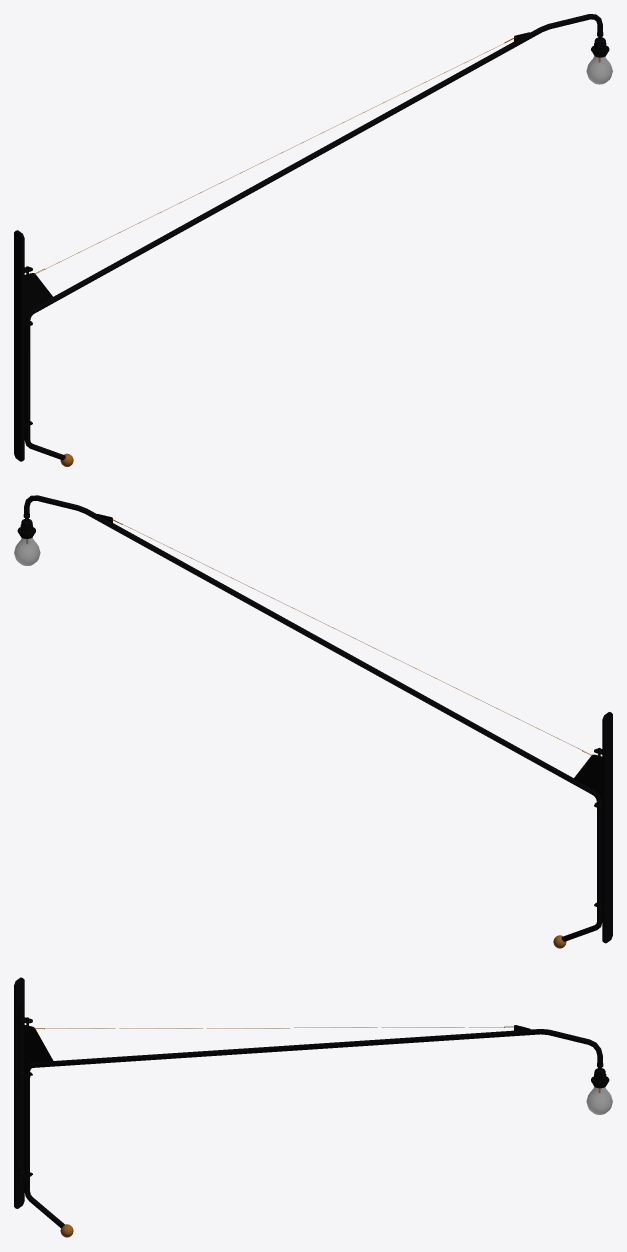
3 views of the same model, one above another, from view 1: azimuth 30°, elevation 25°; view 2: azimuth 150°, elevation 25°; view 3: azimuth 330°, elevation 25° (orthographic).
Parts seen in each view (by area): view 1: OB__000000_001; view 2: OB__000000_001; view 3: OB__000000_001, OB__000002_001.
Boxes of the visible parts, <box> form: OB__000000_001: <box>14,14,609,461</box>; OB__000000_001: <box>17,495,612,943</box>; OB__000000_001: <box>14,977,609,1227</box>; OB__000002_001: <box>586,1086,612,1114</box>.
Size of the model in its own units: 79.27 by 41.48 by 3.08.
